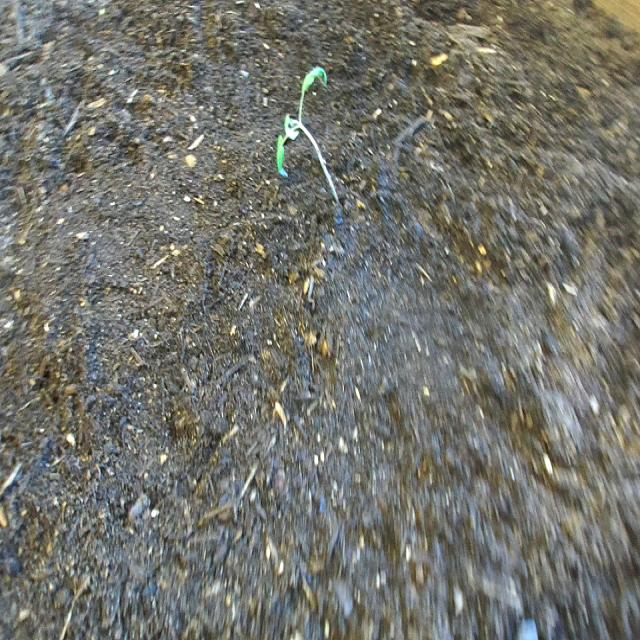Unhealthy: (273, 57, 347, 213)
